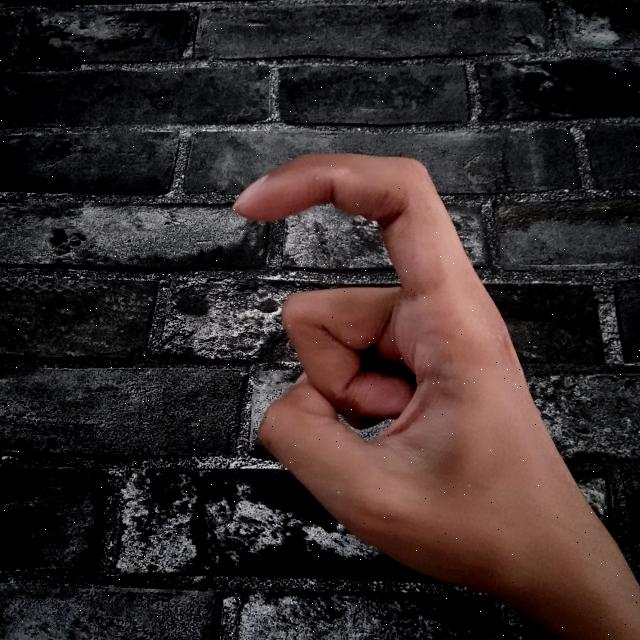X: (222, 146, 640, 640)
